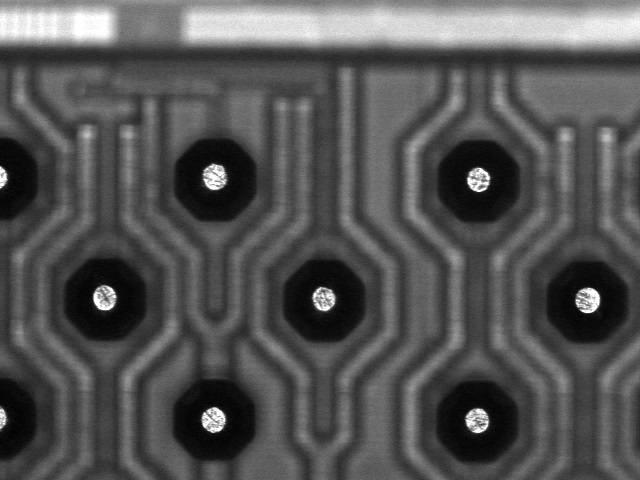normal: (168, 134, 262, 225), (56, 253, 150, 344), (166, 375, 260, 466), (275, 254, 369, 345), (431, 137, 525, 228), (540, 255, 634, 346), (429, 375, 523, 466)
